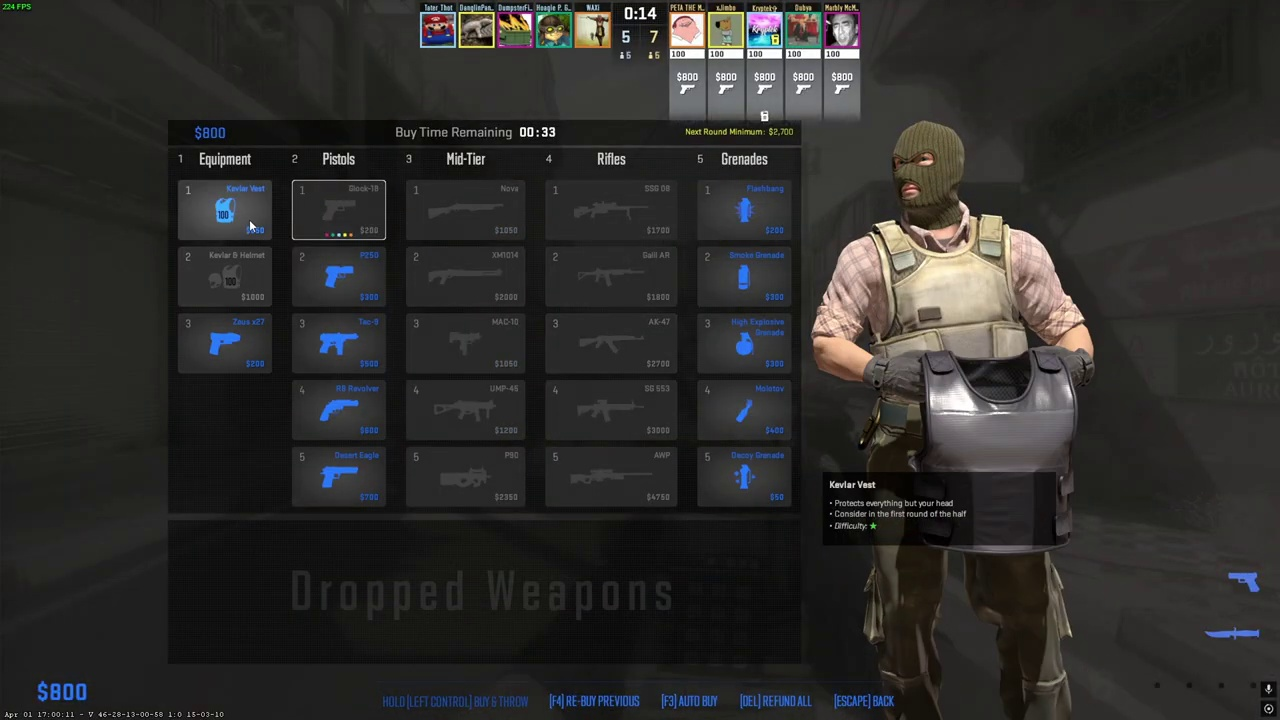Terrorist: (851, 119, 1082, 720)
